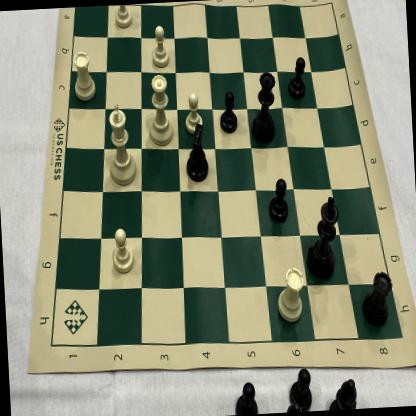king: (300, 190, 344, 285), (103, 97, 139, 188)
knight: (178, 122, 214, 186)
pawn: (107, 223, 136, 278), (178, 88, 205, 138), (266, 174, 291, 225), (146, 21, 171, 69), (215, 88, 239, 137), (286, 53, 308, 100), (111, 3, 133, 32)
queen: (143, 69, 176, 151), (246, 68, 280, 144)
rook: (273, 261, 308, 330), (358, 268, 392, 330), (68, 48, 98, 105)
